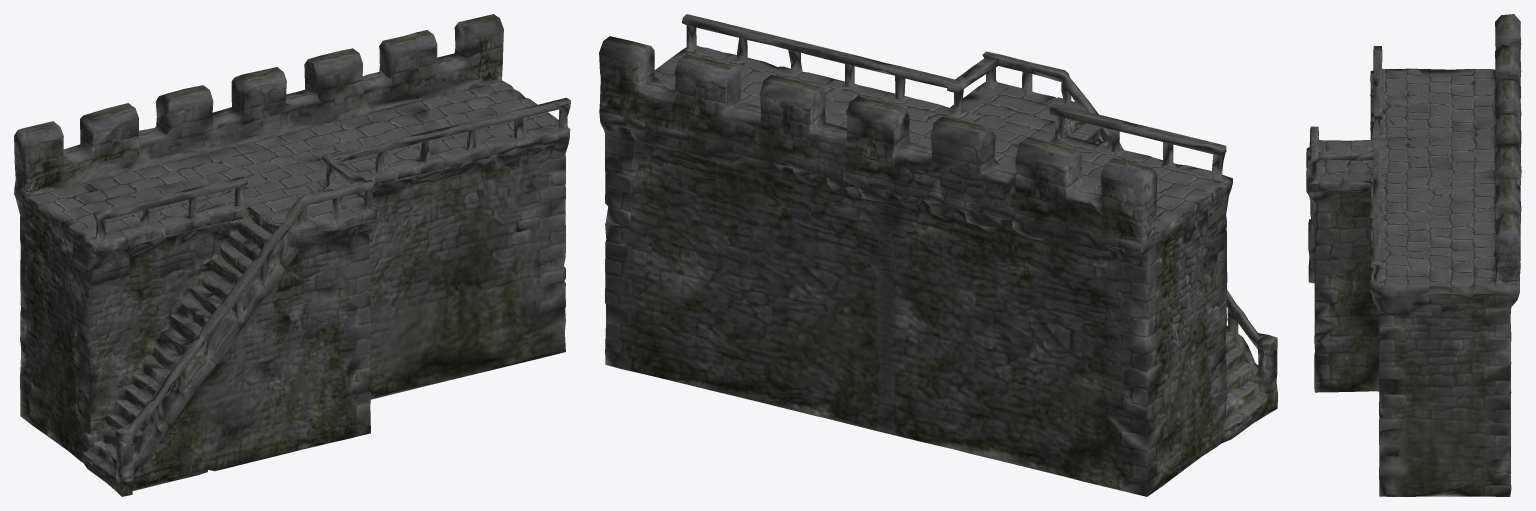
Rendered from fort_m_meadow_wall.glb.
3 renders of one model, left to right at view 1: azimuth 30°, elevation 25°; view 2: azimuth 150°, elevation 25°; view 3: azimuth 270°, elevation 25°, orthographic. The views are drawn at different scales.
Visible parts, largest first — view 1: fort_m_meadow_wall; view 2: fort_m_meadow_wall; view 3: fort_m_meadow_wall.
Part boxes in pixels (x1,y1,x2,y2): fort_m_meadow_wall: (14, 14, 570, 496); fort_m_meadow_wall: (599, 14, 1277, 496); fort_m_meadow_wall: (1306, 14, 1521, 496).
Size of the model in its own units: 1.9 by 1.07 by 0.7841.
1 material, 1 textured.
